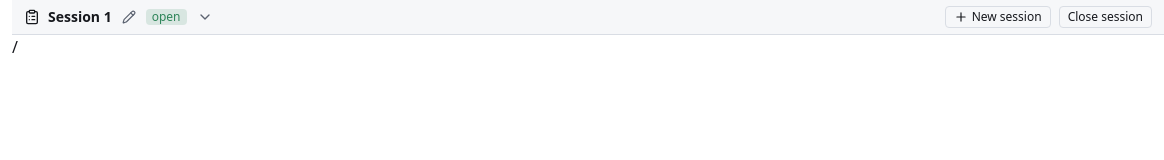
Scenario: SessionHeader › a refused close shows the server message
Step 1. Click the button "Close session" → point(1105, 17), box [1059,6,1152,28]
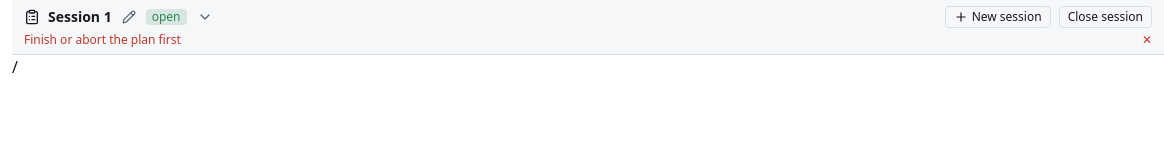
Expected: the text named "Session status" reads "open", [152,8,180,25]
Expected: the message shows "Finish or abort the plan first", [24,31,181,48]
